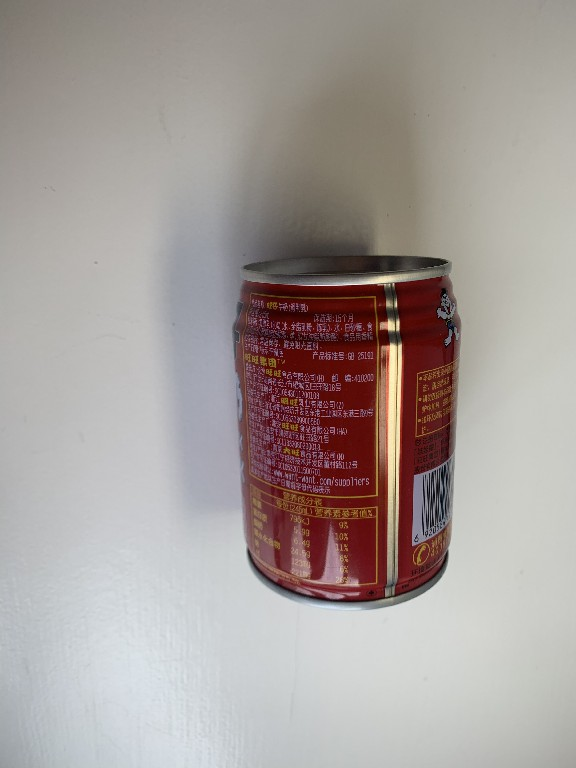can: (227, 247, 464, 613)
